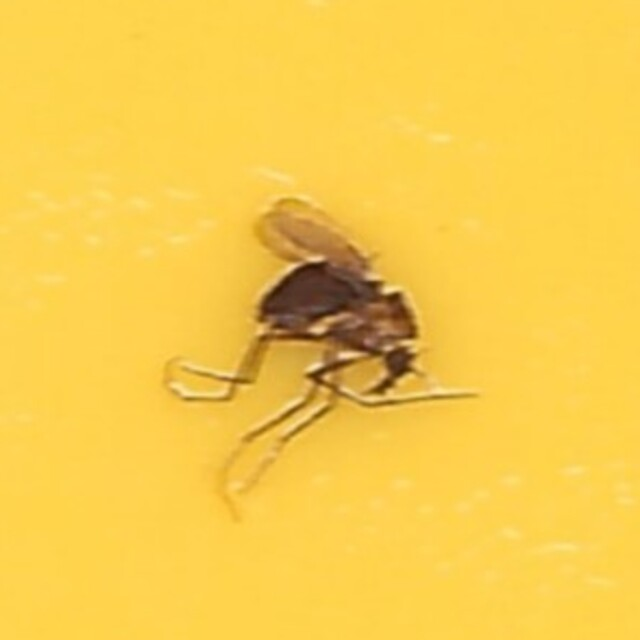Nematocera: (218, 205, 422, 435)
